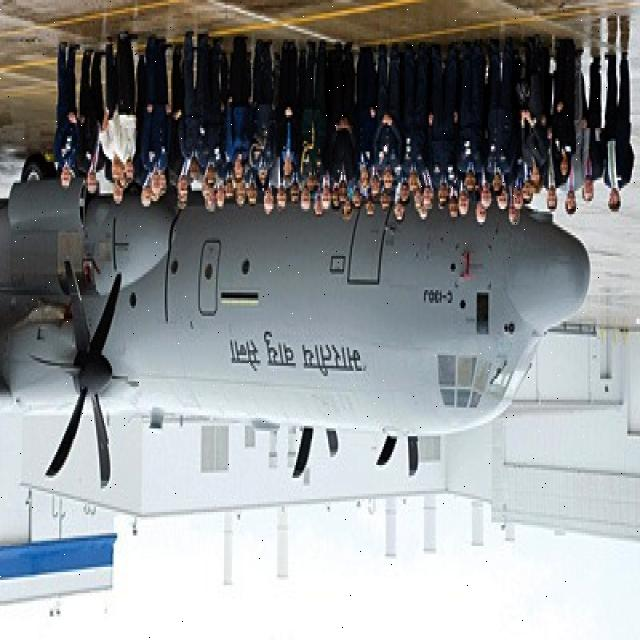C130: (0, 121, 600, 512)
